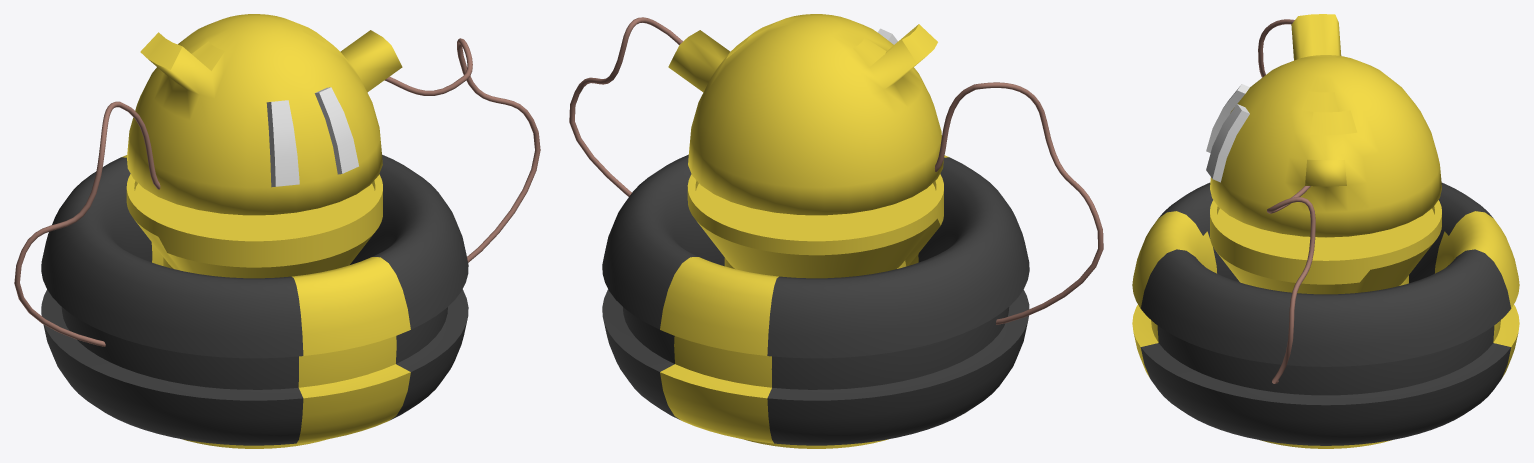
Rendered from Enemy1.fbx.
The picture shows the model from 3 angles, left to right: view 1: azimuth 30°, elevation 25°; view 2: azimuth 150°, elevation 25°; view 3: azimuth 270°, elevation 25°; orthographic projection. The views are drawn at different scales.
Visible parts, largest first — view 1: Torus.001, Sphere, Cylinder, Sphere.001, BezierCurve.001, BezierCurve.002; view 2: Torus.001, Sphere, Cylinder, BezierCurve.001, BezierCurve.002; view 3: Torus.001, Sphere, Cylinder, Sphere.001, BezierCurve.002, BezierCurve.001.
Boxes of the visible parts, <box> form: Torus.001: <box>41,154,468,445</box>; Sphere: <box>127,14,402,215</box>; Cylinder: <box>126,174,382,448</box>; Sphere.001: <box>266,87,358,187</box>; BezierCurve.001: <box>14,101,160,346</box>; BezierCurve.002: <box>384,38,540,262</box>; Torus.001: <box>602,154,1029,445</box>; Sphere: <box>668,14,943,215</box>; Cylinder: <box>687,174,943,448</box>; BezierCurve.001: <box>935,82,1103,324</box>; BezierCurve.002: <box>569,17,682,196</box>; Torus.001: <box>1132,182,1519,445</box>; Sphere: <box>1210,14,1441,237</box>; Cylinder: <box>1210,200,1441,448</box>; Sphere.001: <box>1206,84,1249,182</box>; BezierCurve.002: <box>1267,186,1315,383</box>; BezierCurve.001: <box>1258,19,1294,77</box>.
Bounding box in the file's own units: 477 × 328 × 333.
